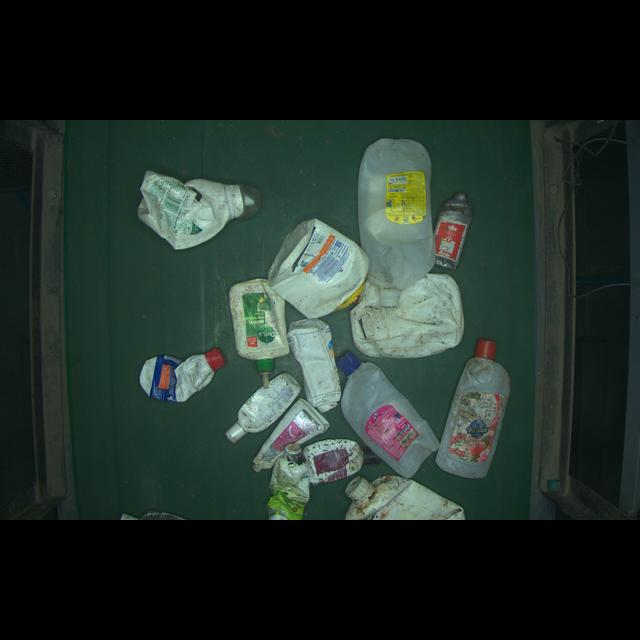mix PET: (358, 127, 444, 307), (132, 158, 266, 251), (453, 336, 513, 499), (126, 329, 234, 404), (228, 276, 295, 385), (285, 307, 354, 412), (223, 365, 297, 450), (276, 440, 324, 533), (437, 178, 478, 276), (307, 439, 378, 488)
